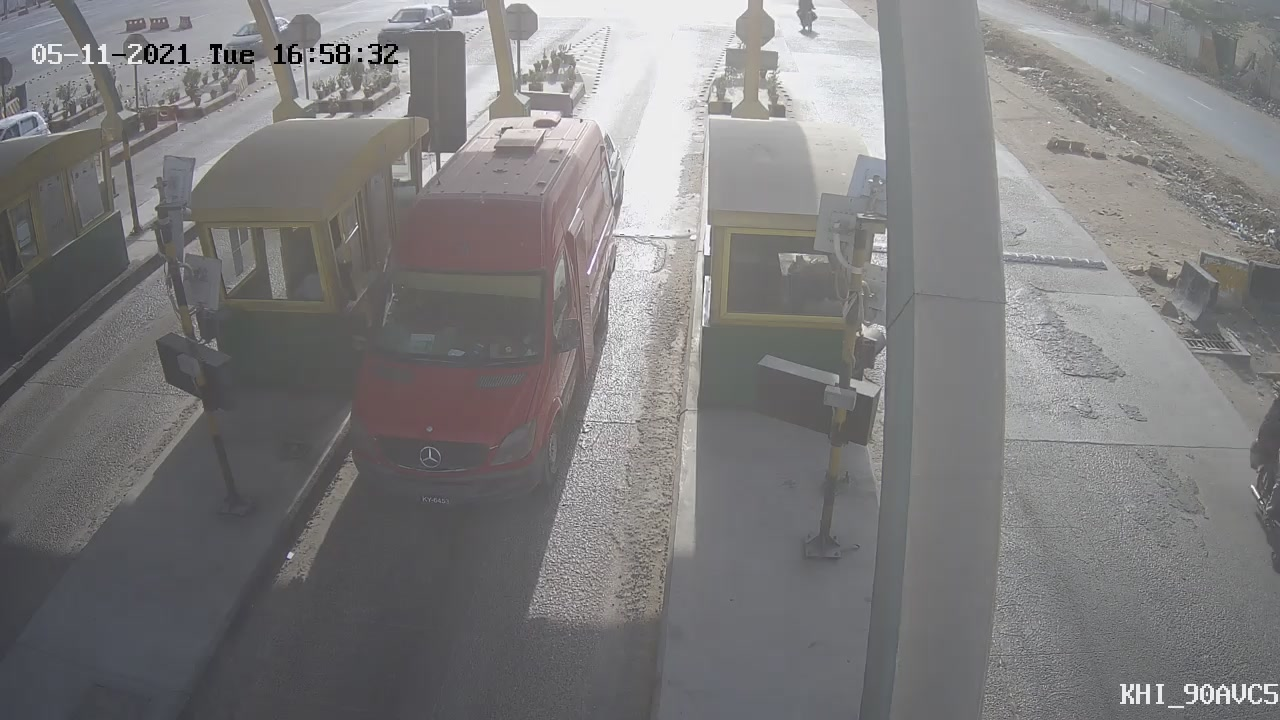F2: (313, 91, 646, 533)
